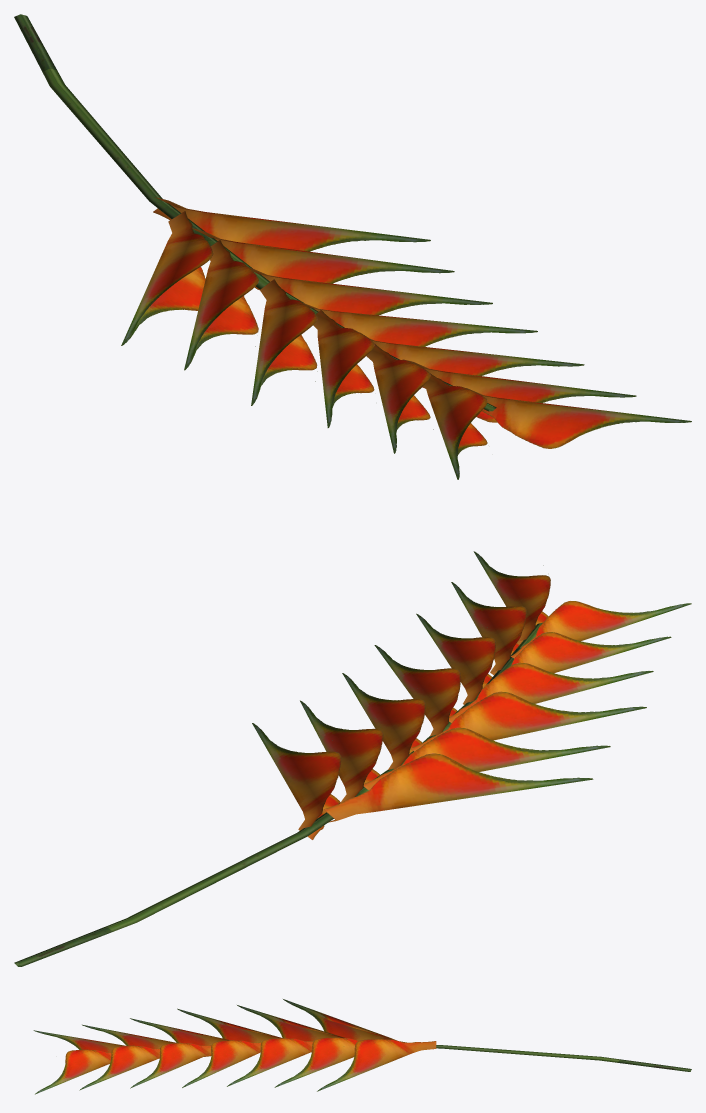
File: dub_flower_vase_dp12_LOD0.obj
The picture shows the model from 3 angles, top to bottom: view 1: azimuth 30°, elevation 25°; view 2: azimuth 150°, elevation 25°; view 3: azimuth 270°, elevation 25°; orthographic projection. The views are drawn at different scales.
Visible parts, largest first — view 1: mtl_dub_flower_vase_01_flwr; view 2: mtl_dub_flower_vase_01_flwr; view 3: mtl_dub_flower_vase_01_flwr.
Part boxes in pixels (x1,y1,x2,y2): mtl_dub_flower_vase_01_flwr: (14,14,691,479); mtl_dub_flower_vase_01_flwr: (14,551,691,966); mtl_dub_flower_vase_01_flwr: (33,999,691,1094).
Bounding box in the file's own units: 40.36 × 5.73 × 120.
